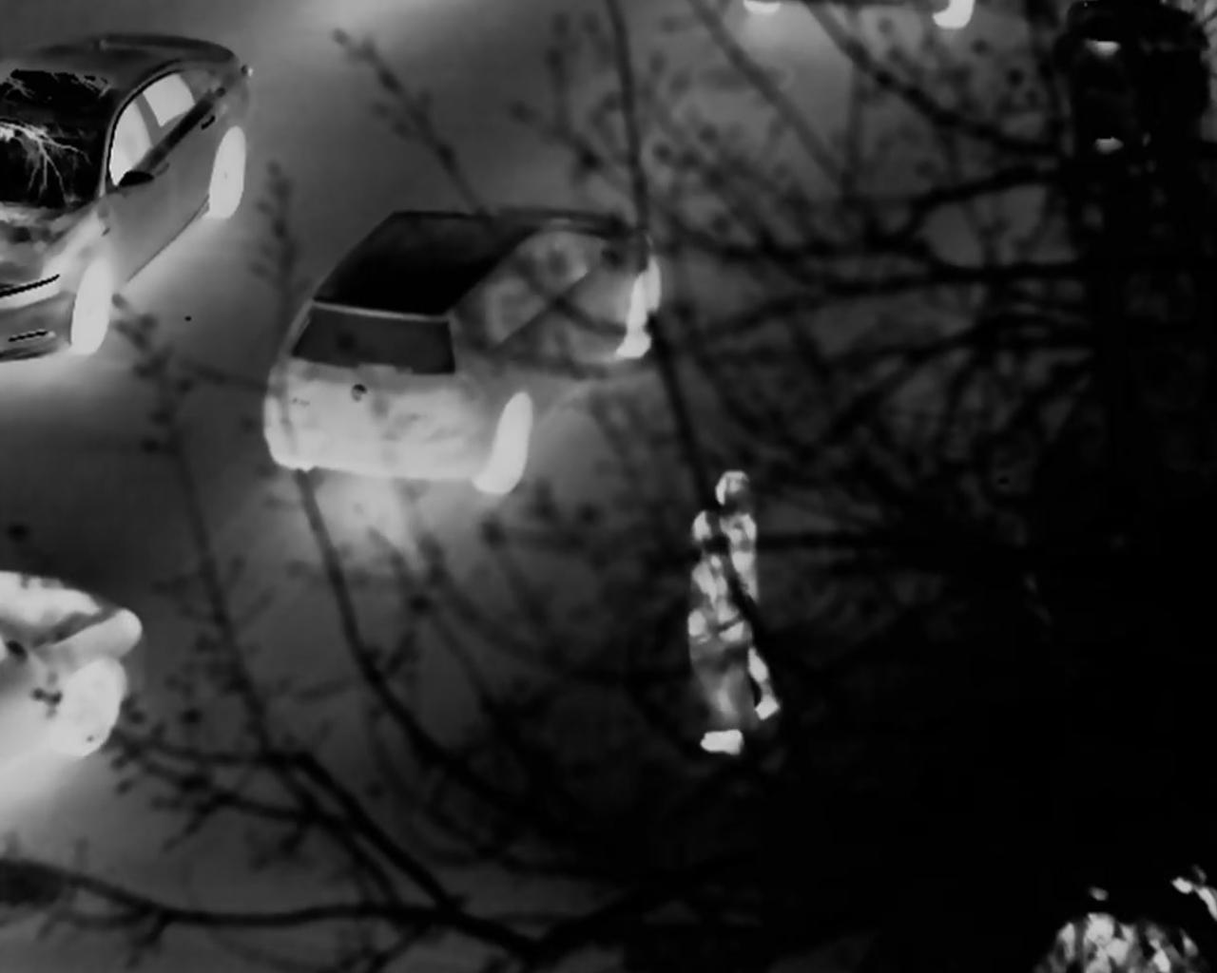person: (688, 471, 782, 724), (675, 509, 767, 754)
